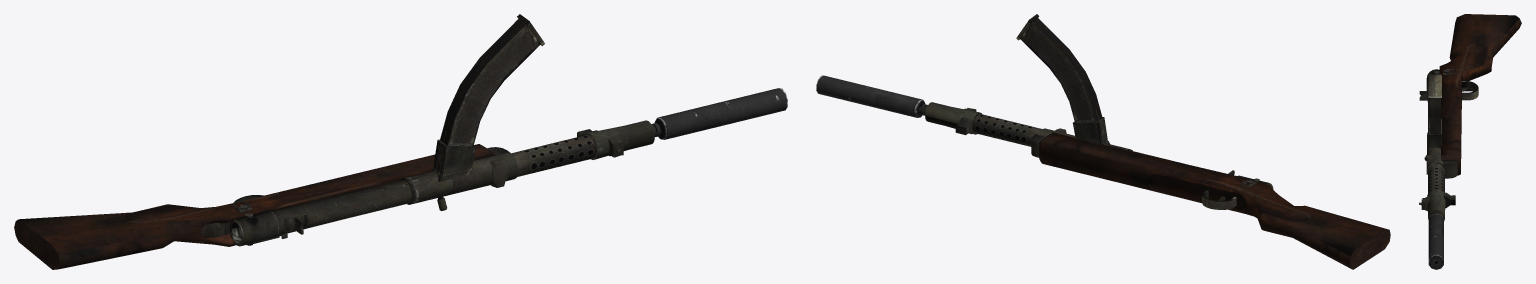
The model's file is weapon_jap_smg_type100_silent_LOD01.obj.
3 views of the same model, side by side, from view 1: azimuth 30°, elevation 25°; view 2: azimuth 150°, elevation 25°; view 3: azimuth 270°, elevation 25° (orthographic). The views are drawn at different scales.
Visible parts, largest first — view 1: TomGroup_0, TomGroup_1, TomGroup_2; view 2: TomGroup_1, TomGroup_0, TomGroup_2; view 3: TomGroup_1, TomGroup_0, TomGroup_2.
Boxes of the visible parts, left/top/right/bottom form: TomGroup_0: left=229, top=14, right=662, bottom=246; TomGroup_1: left=14, top=144, right=496, bottom=269; TomGroup_2: left=651, top=88, right=787, bottom=139; TomGroup_1: left=1039, top=132, right=1390, bottom=269; TomGroup_0: left=918, top=14, right=1273, bottom=209; TomGroup_2: left=816, top=75, right=927, bottom=117; TomGroup_1: left=1439, top=14, right=1521, bottom=175; TomGroup_0: left=1419, top=69, right=1478, bottom=220; TomGroup_2: left=1428, top=213, right=1443, bottom=269.
Size of the model in its own units: 118 by 26.81 by 21.35.
3 materials, 3 textured.
